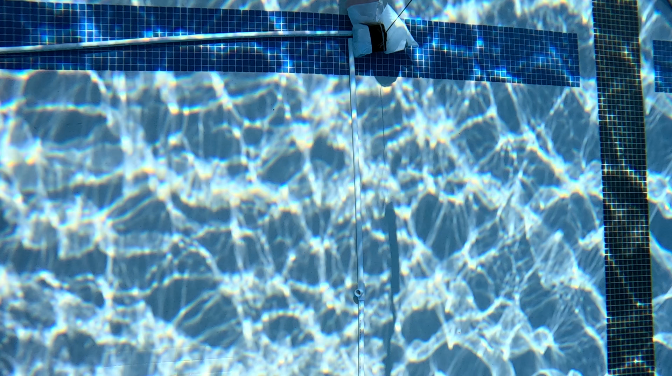sandbag: (348, 0, 413, 55)
